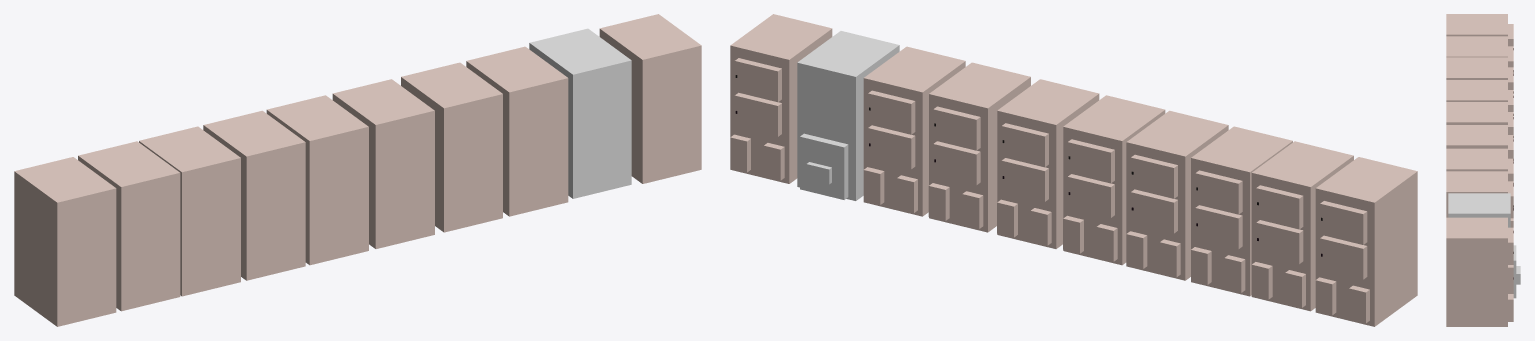
Rendered from FarrakhovaCELL.fbx.
3 views of the same model, side by side, from view 1: azimuth 30°, elevation 25°; view 2: azimuth 150°, elevation 25°; view 3: azimuth 270°, elevation 25° (orthographic). The views are drawn at different scales.
Visible parts, largest first — view 1: CELL№8, CELL№2, CELL№3, CELL№4, CELL№1, CELL№6, CELL№9, Skaff.001, CELL№5, CELL№7; view 2: CELL№8, CELL№3, CELL№2, CELL№4, CELL№1, CELL№6, CELL№9, CELL№5, CELL№7, Skaff.001, Skaff.002; view 3: CELL№2, CELL№1, CELL№3, CELL№4, Skaff.001, CELL№5, CELL№7, CELL№8, CELL№6, CELL№9, Skaff.002.
Boxes of the visible parts, x1=… form: CELL№8: x1=14, y1=157, x2=116, y2=326; CELL№2: x1=599, y1=14, x2=701, y2=183; CELL№3: x1=401, y1=62, x2=502, y2=232; CELL№4: x1=332, y1=79, x2=434, y2=248; CELL№1: x1=466, y1=46, x2=568, y2=216; CELL№6: x1=203, y1=110, x2=305, y2=280; CELL№9: x1=78, y1=141, x2=180, y2=311; Skaff.001: x1=529, y1=28, x2=631, y2=198; CELL№5: x1=266, y1=95, x2=368, y2=265; CELL№7: x1=139, y1=126, x2=240, y2=296; CELL№8: x1=1315, y1=157, x2=1417, y2=326; CELL№3: x1=928, y1=62, x2=1030, y2=232; CELL№2: x1=730, y1=14, x2=832, y2=183; CELL№4: x1=997, y1=79, x2=1099, y2=248; CELL№1: x1=863, y1=46, x2=965, y2=216; CELL№6: x1=1126, y1=110, x2=1228, y2=280; CELL№9: x1=1251, y1=141, x2=1353, y2=311; CELL№5: x1=1063, y1=95, x2=1165, y2=265; CELL№7: x1=1191, y1=126, x2=1292, y2=296; Skaff.001: x1=797, y1=31, x2=899, y2=200; Skaff.002: x1=800, y1=133, x2=848, y2=199; CELL№2: x1=1446, y1=217, x2=1513, y2=326; CELL№1: x1=1446, y1=171, x2=1513, y2=232; CELL№3: x1=1446, y1=148, x2=1513, y2=210; CELL№4: x1=1446, y1=125, x2=1513, y2=186; Skaff.001: x1=1448, y1=193, x2=1510, y2=227; CELL№5: x1=1446, y1=102, x2=1513, y2=163; CELL№7: x1=1446, y1=57, x2=1513, y2=118; CELL№8: x1=1446, y1=14, x2=1513, y2=75; CELL№6: x1=1446, y1=80, x2=1513, y2=141; CELL№9: x1=1446, y1=36, x2=1513, y2=97; Skaff.002: x1=1513, y1=245, x2=1520, y2=298.
Size of the model in its own units: 895 by 166 by 125.
